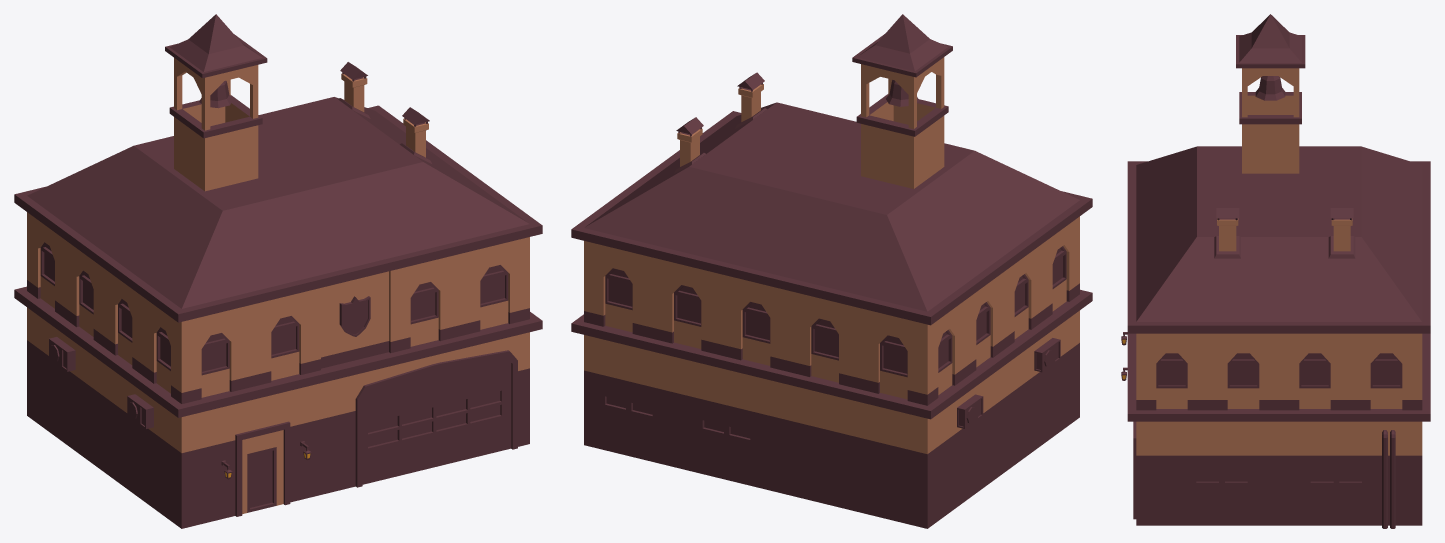
Rendered from building-firestation.fbx.
3 renders of one model, left to right at view 1: azimuth 30°, elevation 25°; view 2: azimuth 150°, elevation 25°; view 3: azimuth 270°, elevation 25°, orthographic. The views are drawn at different scales.
Visible parts, largest first — view 1: building-firestation; view 2: building-firestation; view 3: building-firestation.
Part boxes in pixels (x1,y1,x2,y2): building-firestation: (14, 14, 542, 528); building-firestation: (571, 14, 1092, 528); building-firestation: (1121, 14, 1430, 528).
Bounding box in the file's own units: 13.65 × 15.54 × 10.82.
